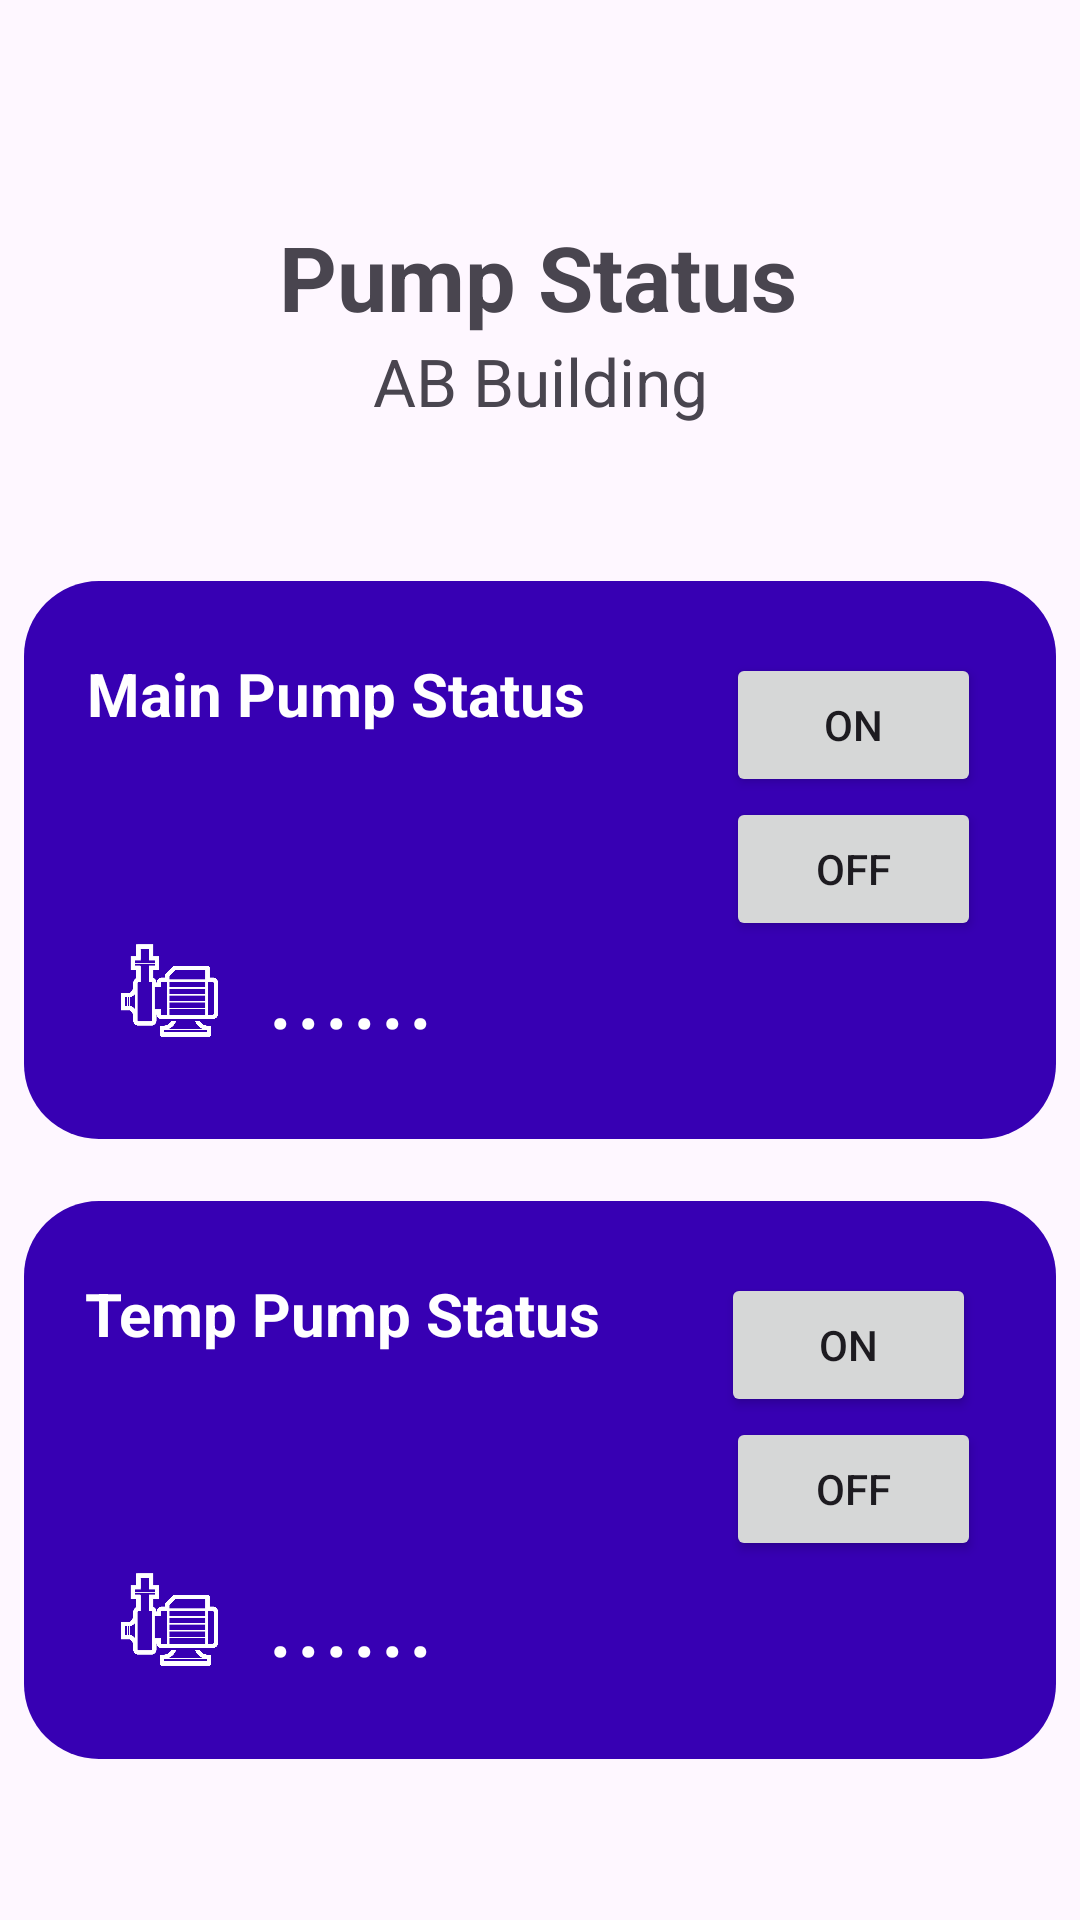

Screen size 1080w x 1920h. Icon name, then its box in pixels as (x1, y1, x2, y2):
pump: (121, 944, 218, 1037), (121, 1573, 218, 1666)
